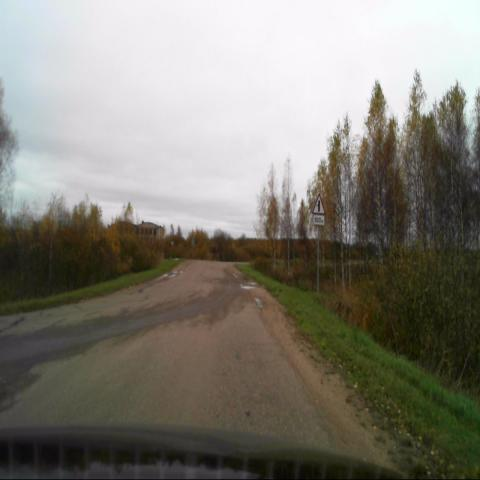2_3_3: (313, 193, 324, 214)
